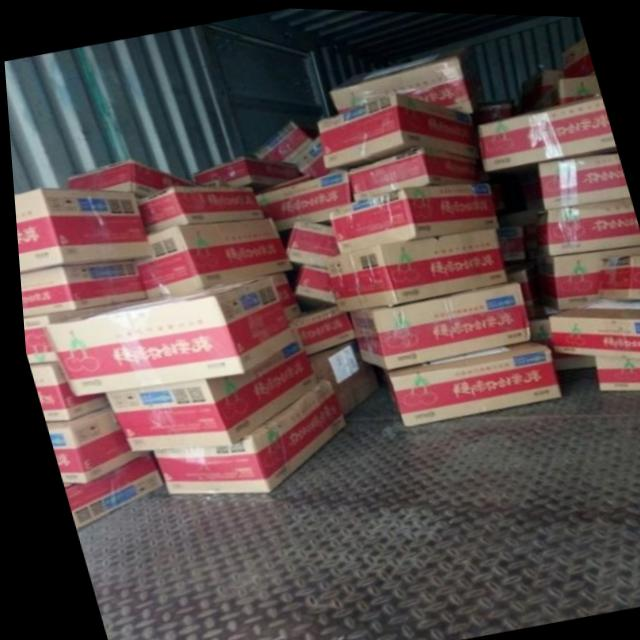box: (39, 273, 289, 396), (98, 327, 311, 450), (147, 376, 339, 491), (344, 279, 525, 367), (320, 225, 503, 310), (377, 338, 555, 424), (316, 89, 479, 169), (130, 216, 287, 296), (324, 180, 496, 252), (11, 187, 148, 272), (476, 92, 613, 167), (40, 403, 143, 483), (328, 53, 471, 110), (345, 143, 483, 200), (18, 298, 134, 364), (56, 451, 155, 527), (16, 258, 142, 317), (540, 241, 640, 306), (133, 185, 261, 234), (535, 193, 640, 252), (544, 294, 640, 355), (252, 169, 347, 229), (301, 336, 374, 413), (62, 160, 201, 199), (536, 149, 627, 206), (25, 362, 104, 421), (284, 303, 351, 353), (191, 155, 298, 184), (281, 215, 336, 266), (251, 119, 310, 160), (287, 133, 341, 177), (532, 72, 599, 107), (593, 249, 640, 295), (589, 351, 640, 386), (290, 262, 333, 302), (560, 34, 594, 74), (267, 271, 295, 319), (545, 347, 591, 367), (525, 315, 548, 346)
